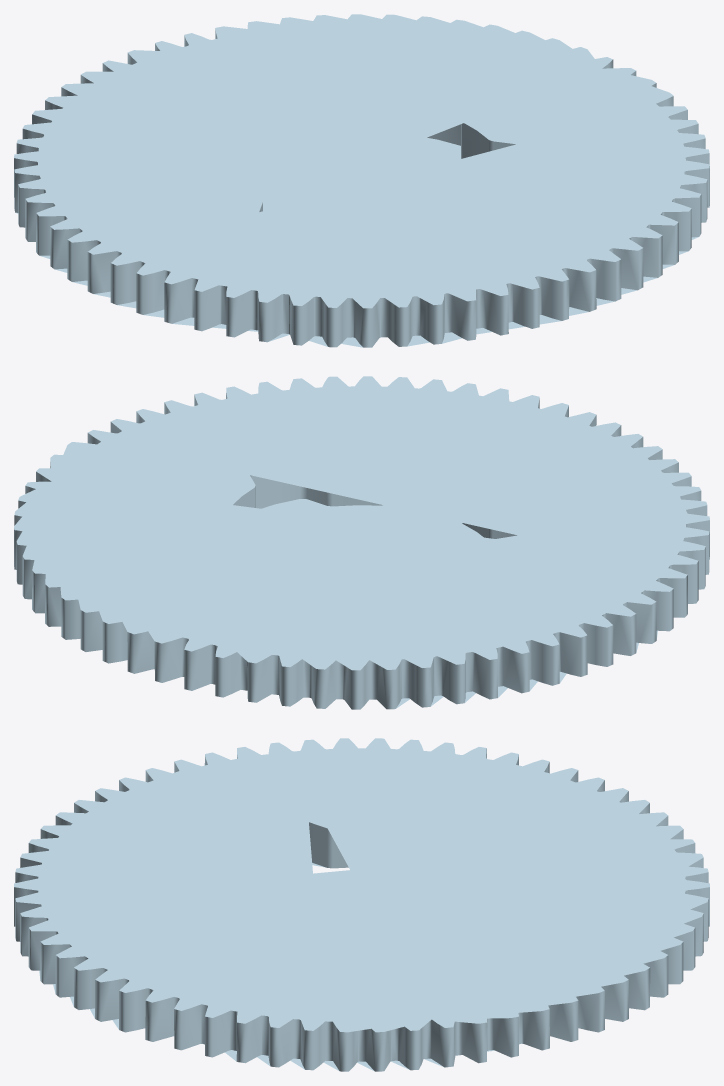
The model's file is spline62t.fbx.
3 views of the same model, one above another, from view 1: azimuth 30°, elevation 25°; view 2: azimuth 150°, elevation 25°; view 3: azimuth 270°, elevation 25° (orthographic).
Visible parts, largest first — view 1: Spur gear (62 teeth); view 2: Spur gear (62 teeth); view 3: Spur gear (62 teeth).
Part boxes in pixels (bbox=[...]): Spur gear (62 teeth): bbox=[14, 14, 709, 347]; Spur gear (62 teeth): bbox=[14, 376, 709, 709]; Spur gear (62 teeth): bbox=[14, 738, 709, 1071].
Bounding box in the file's own units: 8.12 × 0.508 × 8.13.
